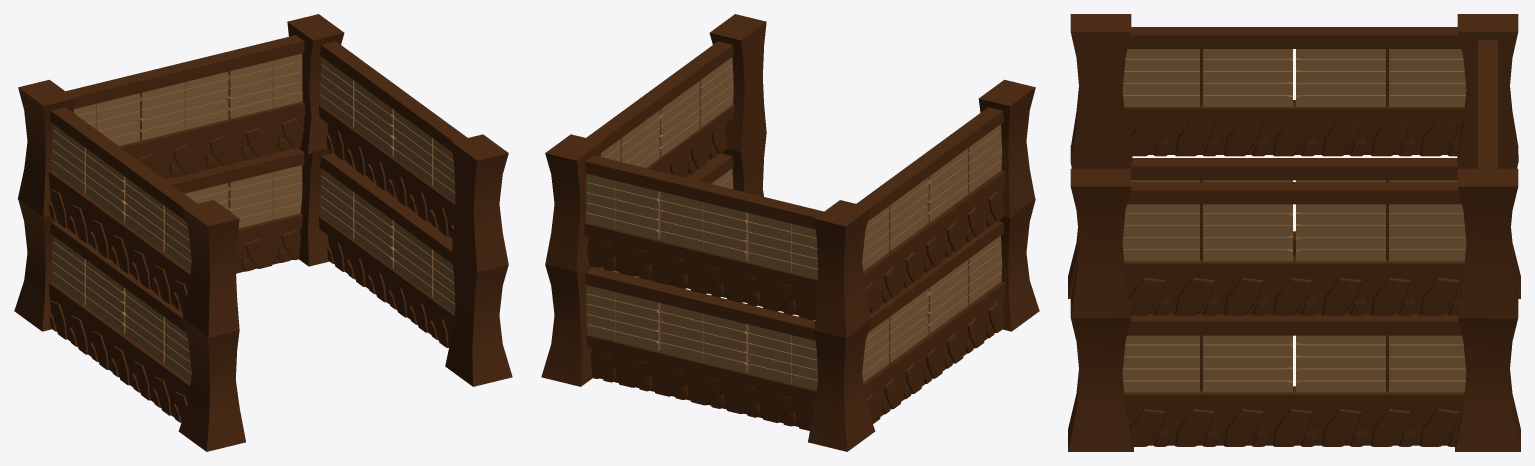
Rendered from Muros1.obj.
The picture shows the model from 3 angles, left to right: view 1: azimuth 30°, elevation 25°; view 2: azimuth 150°, elevation 25°; view 3: azimuth 270°, elevation 25°; orthographic projection. The views are drawn at different scales.
Visible parts, largest first — view 1: group pasted__pCube339, group pasted__pCube320, group pasted__pCube9, pCube4, pCube316, group pasted__pCube369, group pasted__pCube289, group pasted__pCube45, pCube323, group pasted__pCube312, pCube346, group pasted__pCube304 (+19 smaller); view 2: pCube316, pCube43, pCube323, pCube15, group pasted__pCube304, group pasted__pCube369, group pasted__pCube339, group pasted__pCube22, group pasted__pCube289, group pasted__pCube14, group pasted__pCube45, group pasted__pCube320 (+25 smaller); view 3: pCube305, pCube44, group pasted__pCube289, group pasted__pCube320, group pasted__pCube304, group pasted__pCube339, pCube346, group pasted__pCube17, group pasted__pCube312, group pasted__pCube14, group pasted__pCube9, pCube19 (+67 smaller).
Boxes of the visible parts, left/top/right/bottom form: group pasted__pCube339: left=451, top=134, right=508, bottom=272; group pasted__pCube320: left=182, top=200, right=239, bottom=337; group pasted__pCube9: left=445, top=254, right=512, bottom=386; pCube4: left=178, top=319, right=245, bottom=451; pCube316: left=134, top=115, right=304, bottom=179; group pasted__pCube369: left=66, top=35, right=304, bottom=108; group pasted__pCube289: left=49, top=184, right=188, bottom=314; group pasted__pCube45: left=49, top=295, right=188, bottom=422; pCube323: left=18, top=79, right=75, bottom=217; group pasted__pCube312: left=49, top=107, right=197, bottom=220; pCube346: left=320, top=41, right=467, bottom=152; group pasted__pCube304: left=287, top=14, right=344, bottom=154; pCube316: left=586, top=236, right=817, bottom=320; pCube43: left=590, top=348, right=814, bottom=430; pCube323: left=814, top=200, right=871, bottom=337; pCube15: left=808, top=319, right=875, bottom=451; group pasted__pCube304: left=545, top=134, right=602, bottom=272; group pasted__pCube369: left=585, top=155, right=823, bottom=229; group pasted__pCube339: left=709, top=14, right=766, bottom=151; group pasted__pCube22: left=585, top=267, right=815, bottom=340; group pasted__pCube289: left=865, top=184, right=1004, bottom=312; group pasted__pCube14: left=541, top=264, right=600, bottom=386; group pasted__pCube45: left=865, top=295, right=1004, bottom=423; group pasted__pCube320: left=978, top=79, right=1035, bottom=217; pCube305: left=1125, top=277, right=1463, bottom=315; pCube44: left=1125, top=408, right=1463, bottom=446; group pasted__pCube289: left=1126, top=122, right=1462, bottom=156; group pasted__pCube320: left=1070, top=14, right=1132, bottom=163; group pasted__pCube304: left=1457, top=168, right=1518, bottom=317; group pasted__pCube339: left=1070, top=168, right=1131, bottom=317; pCube346: left=1127, top=182, right=1461, bottom=204; group pasted__pCube17: left=1130, top=158, right=1458, bottom=180; group pasted__pCube312: left=1127, top=27, right=1461, bottom=48; group pasted__pCube14: left=1455, top=315, right=1520, bottom=451; group pasted__pCube9: left=1068, top=303, right=1133, bottom=451; pCube19: left=1127, top=314, right=1461, bottom=335.
Size of the model in its own units: 8.49 by 5.94 by 9.25.
8 materials, 8 textured.
